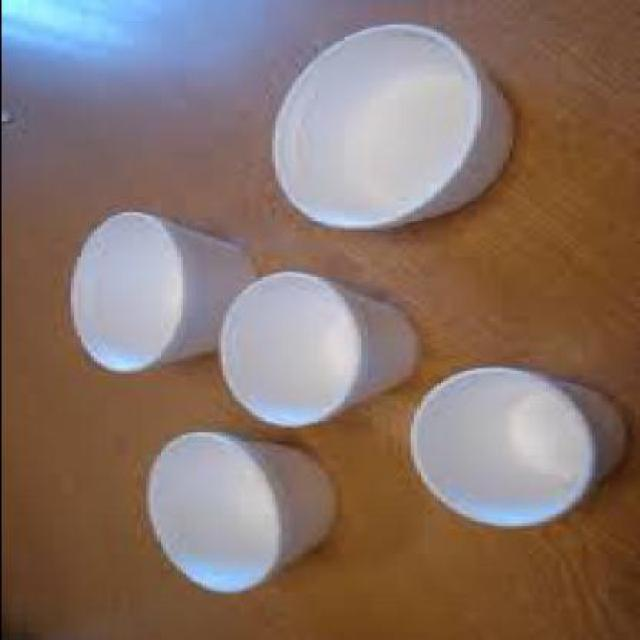PAPER: (270, 22, 508, 226), (402, 363, 621, 525), (208, 267, 412, 422), (142, 430, 336, 590), (63, 210, 248, 370)
